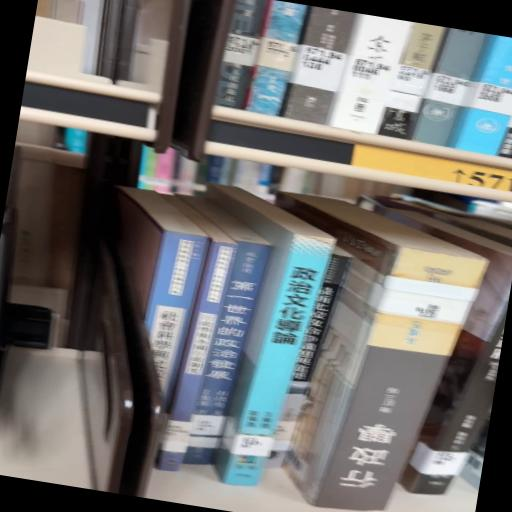reverse: (277, 194, 488, 511)
